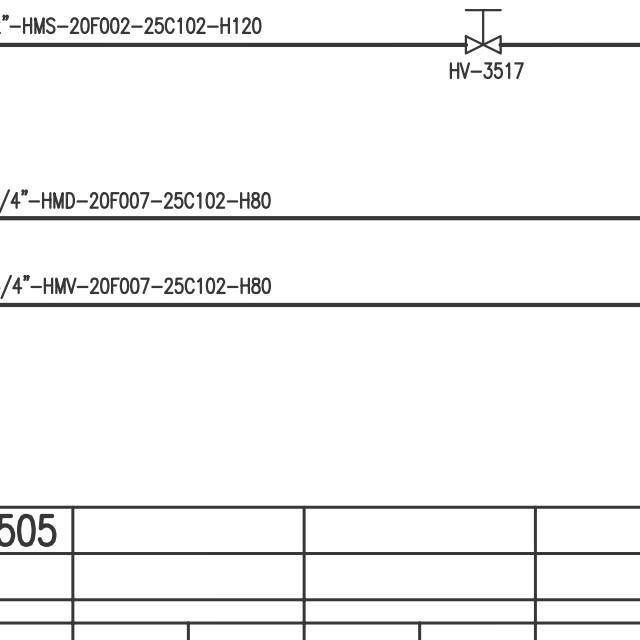HVWT: (458, 3, 510, 55)
